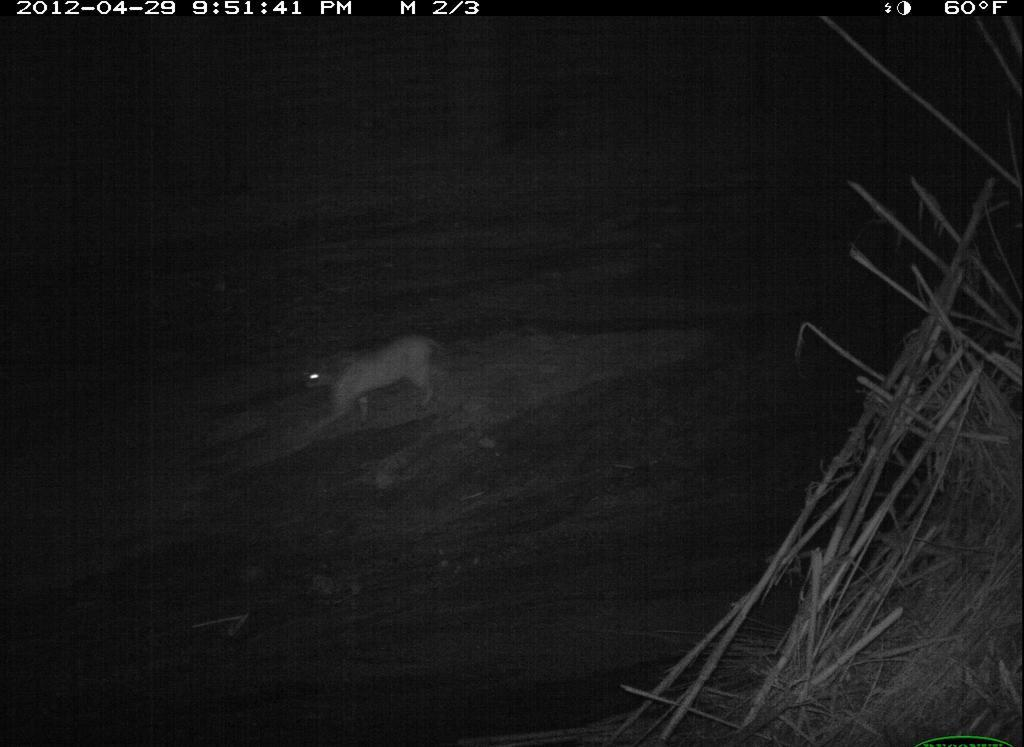bobcat: (300, 331, 450, 436)
